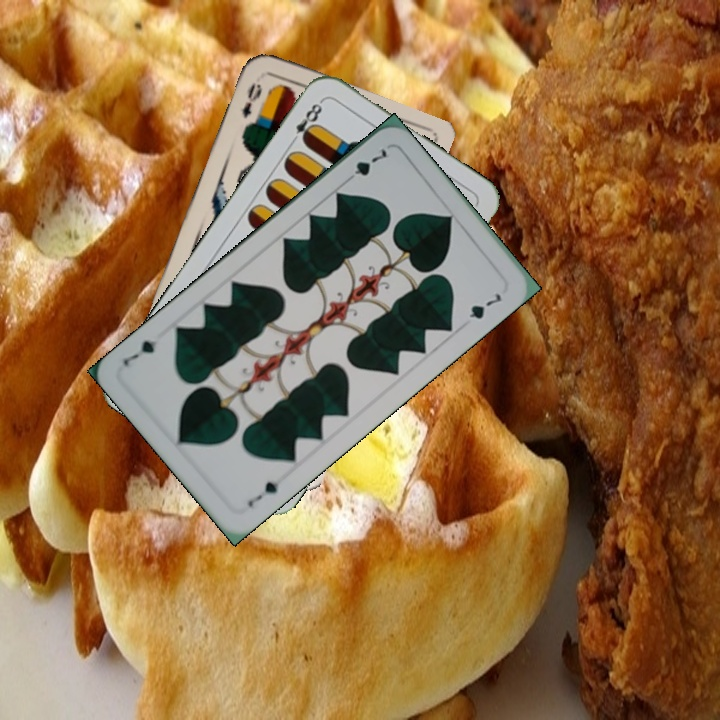E8: (286, 96, 326, 147)
EO: (238, 78, 265, 121)
G7: (340, 144, 390, 186), (243, 477, 282, 510)
